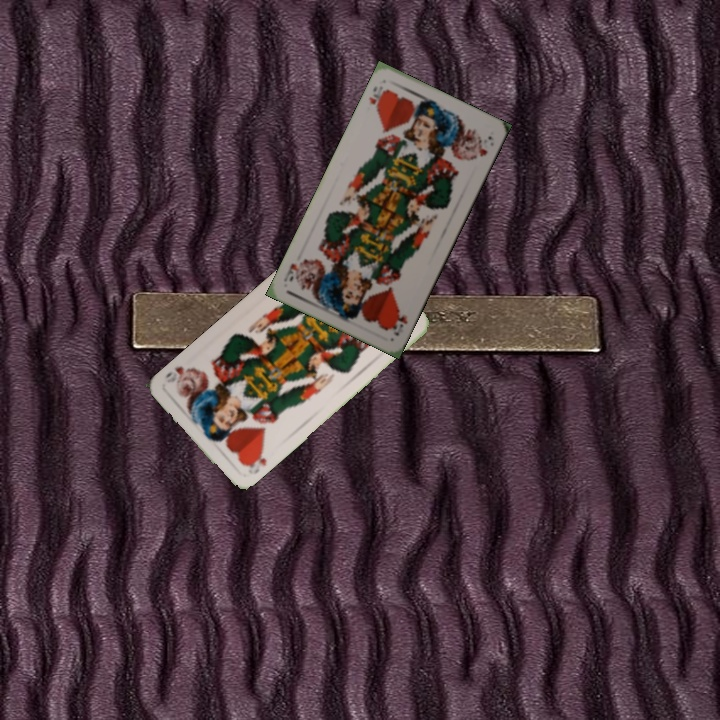HO: (240, 444, 269, 477), (365, 82, 390, 113), (387, 306, 410, 338)
